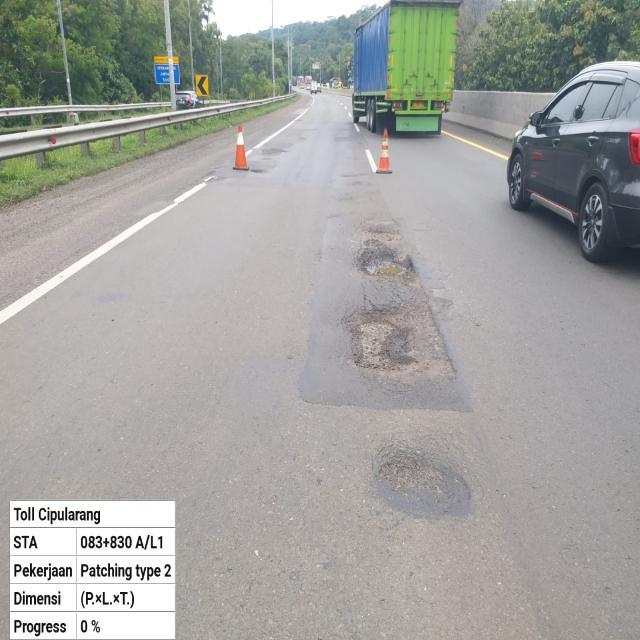Buraco: (338, 295, 462, 390), (371, 448, 454, 498), (354, 237, 421, 282), (246, 146, 290, 158)
